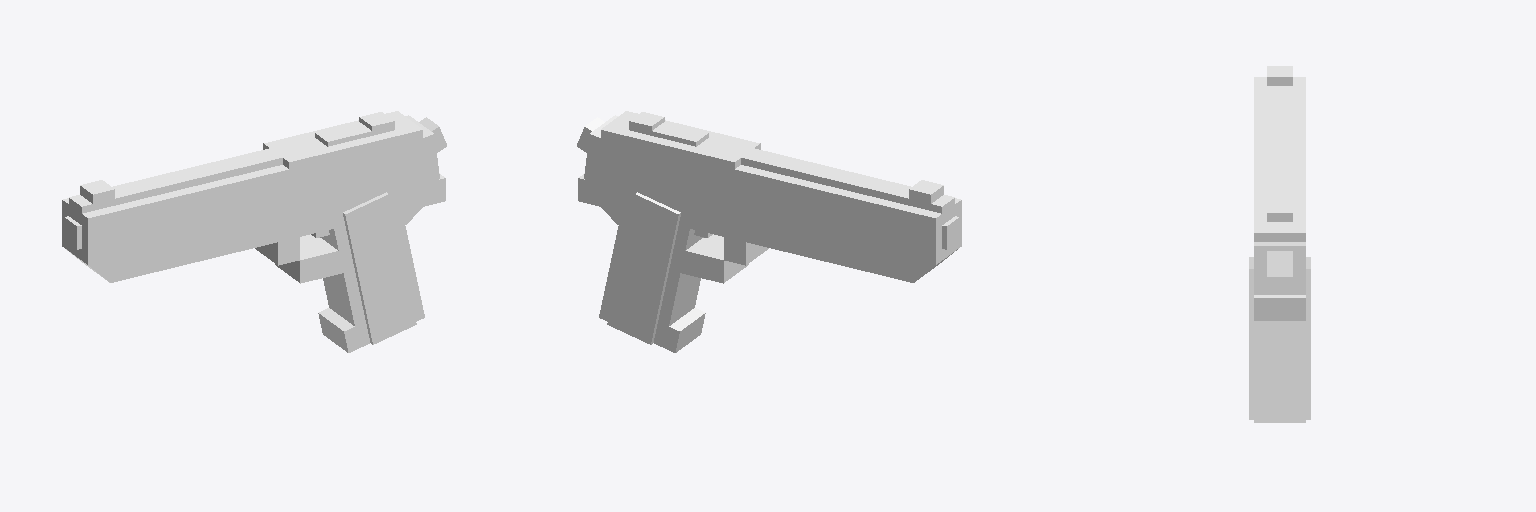
Rendered from desert_eagle.obj.
3 renders of one model, left to right at view 1: azimuth 30°, elevation 25°; view 2: azimuth 150°, elevation 25°; view 3: azimuth 270°, elevation 25°, orthographic.
Parts seen in each view (by area): view 1: Shape1, Shape18, Shape12, Shape13, Shape2, Shape4, Shape6, Shape16, Shape10, Shape22, Shape5, Shape20 (+2 smaller); view 2: Shape1, Shape19, Shape12, Shape13, Shape2, Shape4, Shape6, Shape16, Shape10, Shape22, Shape5, Shape20 (+2 smaller); view 3: Shape2, Shape12, Shape13, Shape1, Shape10, Shape9, Shape18, Shape19, Shape11.
Boxes of the visible parts, x1=… form: Shape1: x1=104, y1=137, x2=422, y2=282; Shape18: x1=343, y1=192, x2=416, y2=344; Shape12: x1=263, y1=111, x2=422, y2=184; Shape13: x1=69, y1=148, x2=282, y2=213; Shape2: x1=320, y1=188, x2=424, y2=325; Shape4: x1=275, y1=234, x2=344, y2=283; Shape6: x1=62, y1=198, x2=109, y2=264; Shape16: x1=318, y1=308, x2=369, y2=352; Shape10: x1=405, y1=115, x2=439, y2=186; Shape22: x1=315, y1=122, x2=371, y2=146; Shape5: x1=255, y1=237, x2=299, y2=265; Shape20: x1=80, y1=180, x2=114, y2=210; Shape1: x1=601, y1=137, x2=919, y2=282; Shape19: x1=607, y1=192, x2=680, y2=344; Shape12: x1=601, y1=111, x2=760, y2=185; Shape13: x1=741, y1=148, x2=954, y2=221; Shape2: x1=599, y1=188, x2=703, y2=345; Shape4: x1=679, y1=234, x2=748, y2=283; Shape6: x1=914, y1=198, x2=961, y2=264; Shape16: x1=654, y1=308, x2=705, y2=352; Shape10: x1=584, y1=115, x2=618, y2=186; Shape22: x1=652, y1=122, x2=708, y2=146; Shape5: x1=724, y1=237, x2=768, y2=265; Shape20: x1=909, y1=180, x2=943, y2=210; Shape2: x1=1254, y1=321, x2=1305, y2=422; Shape12: x1=1254, y1=168, x2=1305, y2=241; Shape13: x1=1267, y1=86, x2=1292, y2=167; Shape1: x1=1254, y1=88, x2=1305, y2=241; Shape10: x1=1254, y1=242, x2=1305, y2=294; Shape9: x1=1254, y1=295, x2=1305, y2=320; Shape18: x1=1249, y1=257, x2=1253, y2=419; Shape19: x1=1306, y1=257, x2=1310, y2=419; Shape11: x1=1267, y1=251, x2=1292, y2=276.
Bounding box in the file's own units: 1.04 × 0.574 × 0.15.